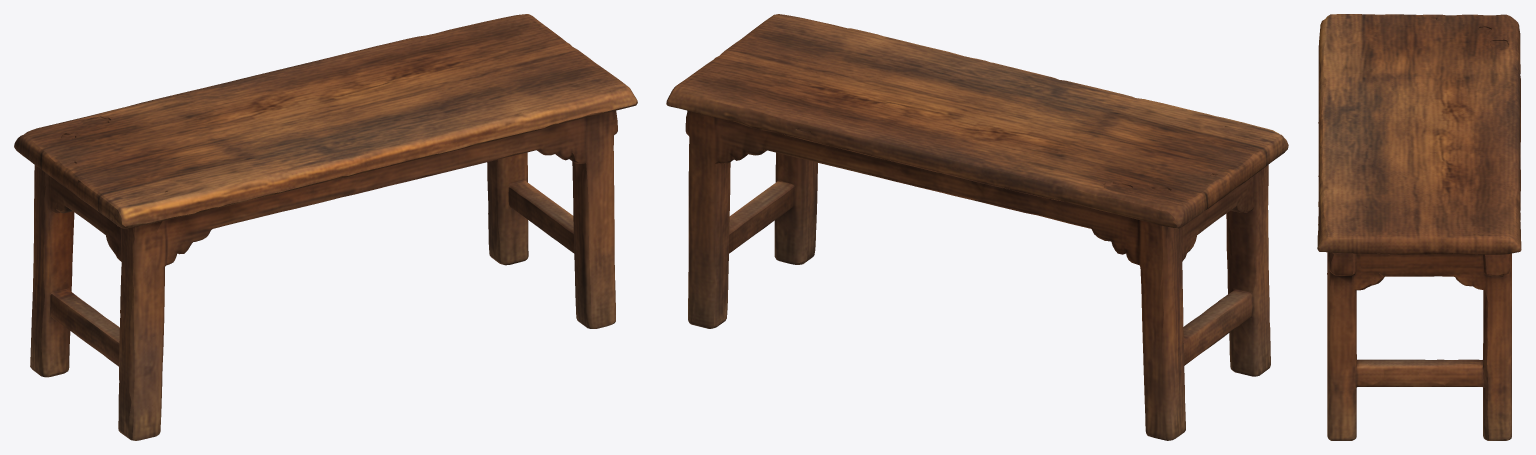
Rendered from workbench.glb.
3 renders of one model, left to right at view 1: azimuth 30°, elevation 25°; view 2: azimuth 150°, elevation 25°; view 3: azimuth 270°, elevation 25°, orthographic. The views are drawn at different scales.
Parts seen in each view (by area): view 1: world; view 2: world; view 3: world.
Part boxes in pixels (x1,y1,x2,y2): world: (14, 14, 637, 440); world: (666, 14, 1288, 440); world: (1317, 14, 1521, 440).
Bounding box in the file's own units: 1 × 0.4422 × 0.3857.
1 material, 1 textured.
